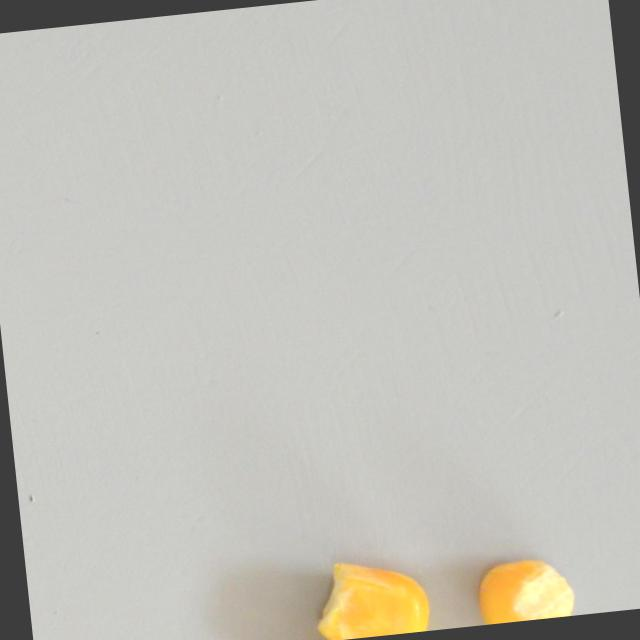pelicula: (307, 552, 429, 640), (471, 554, 574, 625)
